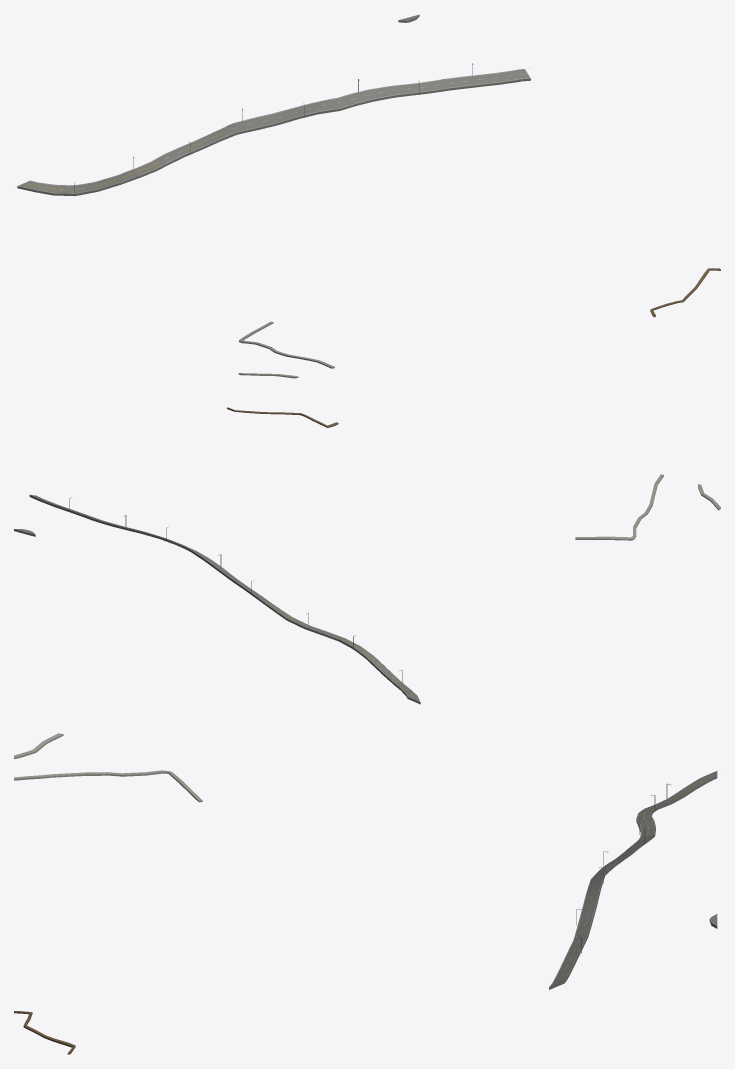
The picture shows the model from 3 angles, top to bottom: view 1: azimuth 30°, elevation 25°; view 2: azimuth 150°, elevation 25°; view 3: azimuth 270°, elevation 25°; orthographic projection. The views are drawn at different scales.
Bounding box in the file's own units: 297 × 51.61 × 293.
